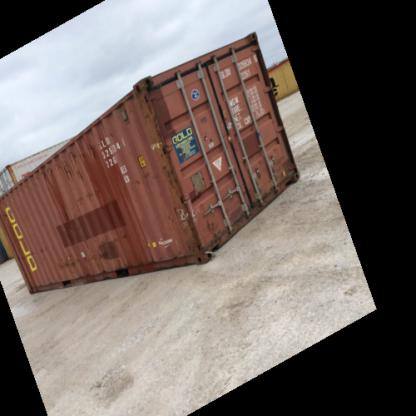Damage: (162, 163, 206, 259), (140, 90, 173, 158), (33, 146, 106, 173), (57, 255, 100, 274), (197, 128, 224, 155), (71, 183, 105, 202), (271, 150, 294, 178), (106, 221, 129, 247), (249, 157, 268, 185), (129, 166, 151, 190), (33, 242, 56, 256)
